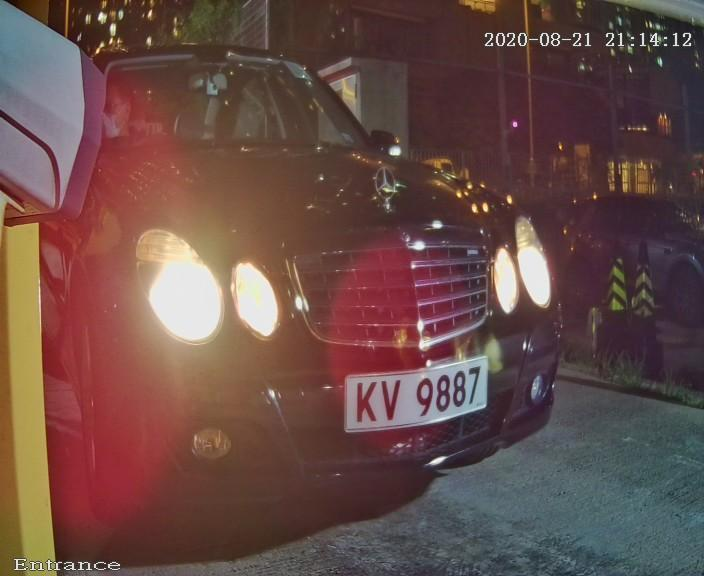Car: (7, 26, 617, 546)
License Plate: (315, 335, 516, 461)
